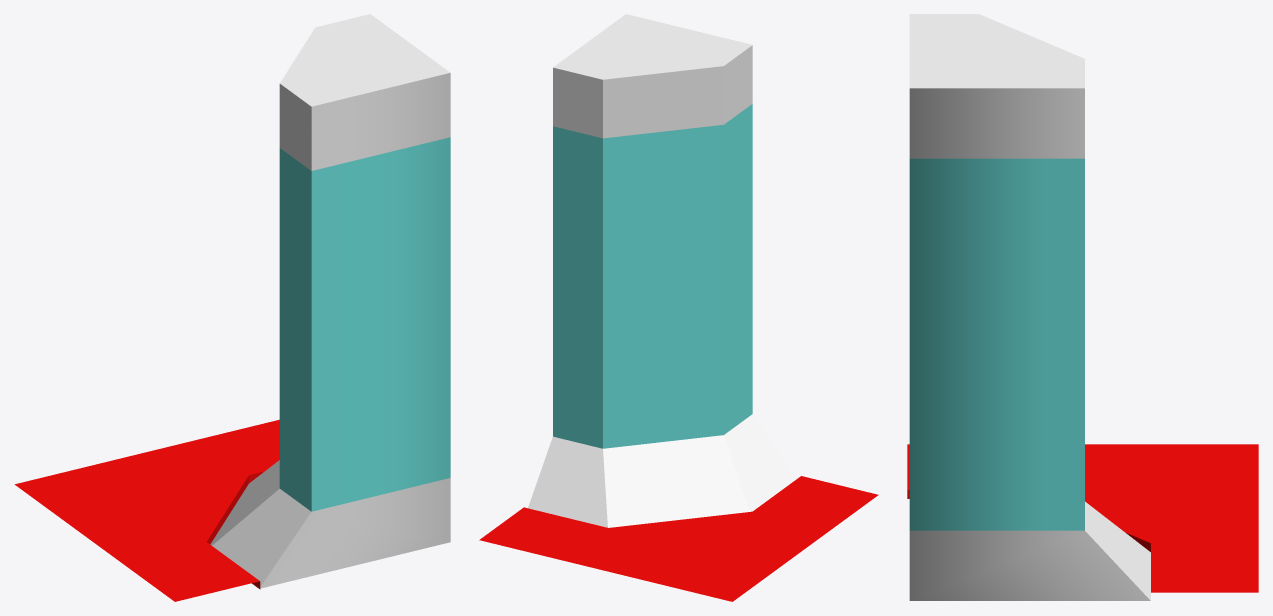
The model's file is Wall-OpenTurnLow.fbx.
The picture shows the model from 3 angles, left to right: view 1: azimuth 30°, elevation 25°; view 2: azimuth 150°, elevation 25°; view 3: azimuth 270°, elevation 25°; orthographic projection. The views are drawn at different scales.
Parts seen in each view (by area): view 1: OpenTurnLow; view 2: OpenTurnLow; view 3: OpenTurnLow.
Part boxes in pixels (x1,y1,x2,y2): OpenTurnLow: (14, 14, 450, 601); OpenTurnLow: (479, 14, 878, 601); OpenTurnLow: (907, 14, 1258, 600).
Size of the model in its own units: 78.74 by 127 by 78.74.
